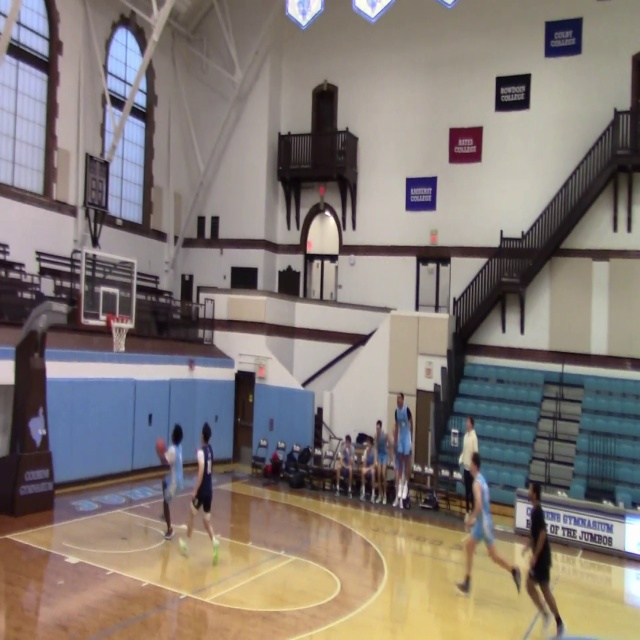Basketball: (164, 447, 176, 465), (156, 438, 165, 454)
